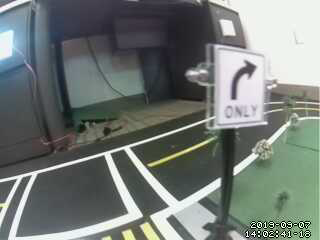Right_only_sign: (214, 43, 269, 123)
